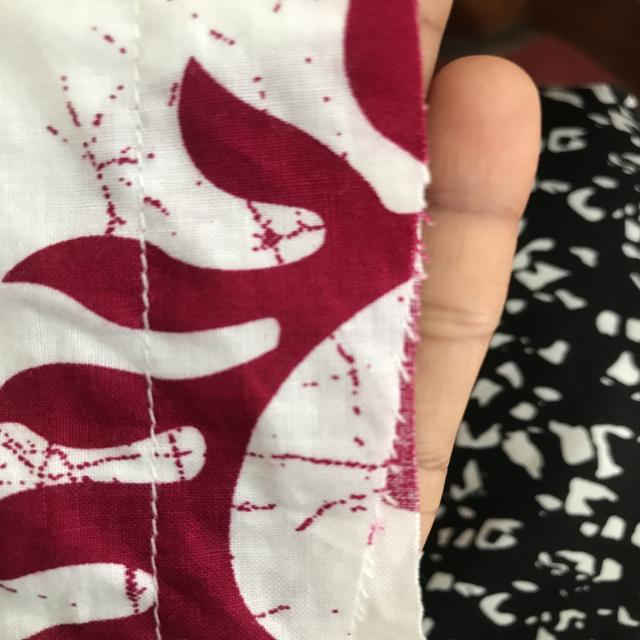good: (142, 487, 177, 572), (119, 256, 165, 318)
